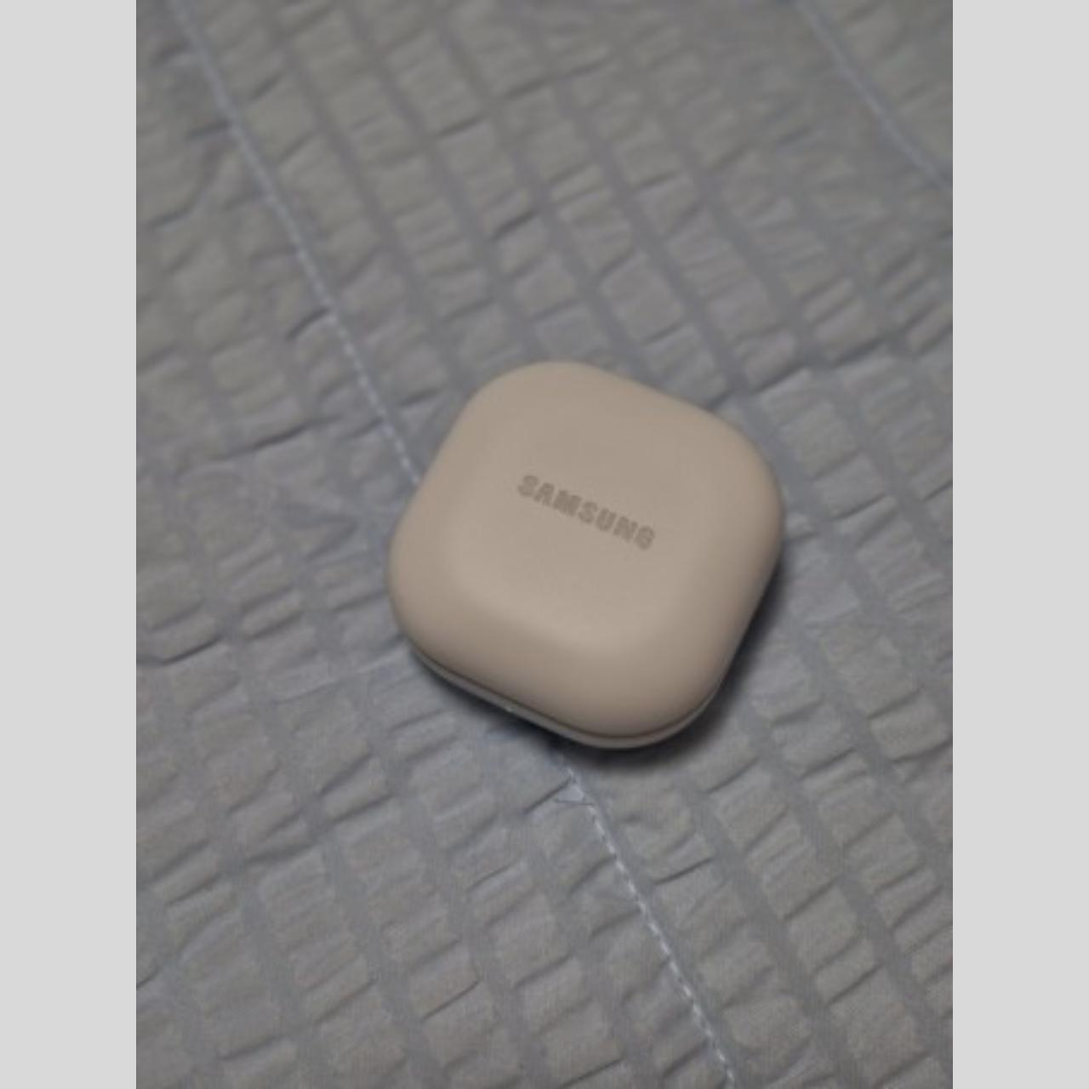Buds: (385, 355, 789, 771)
